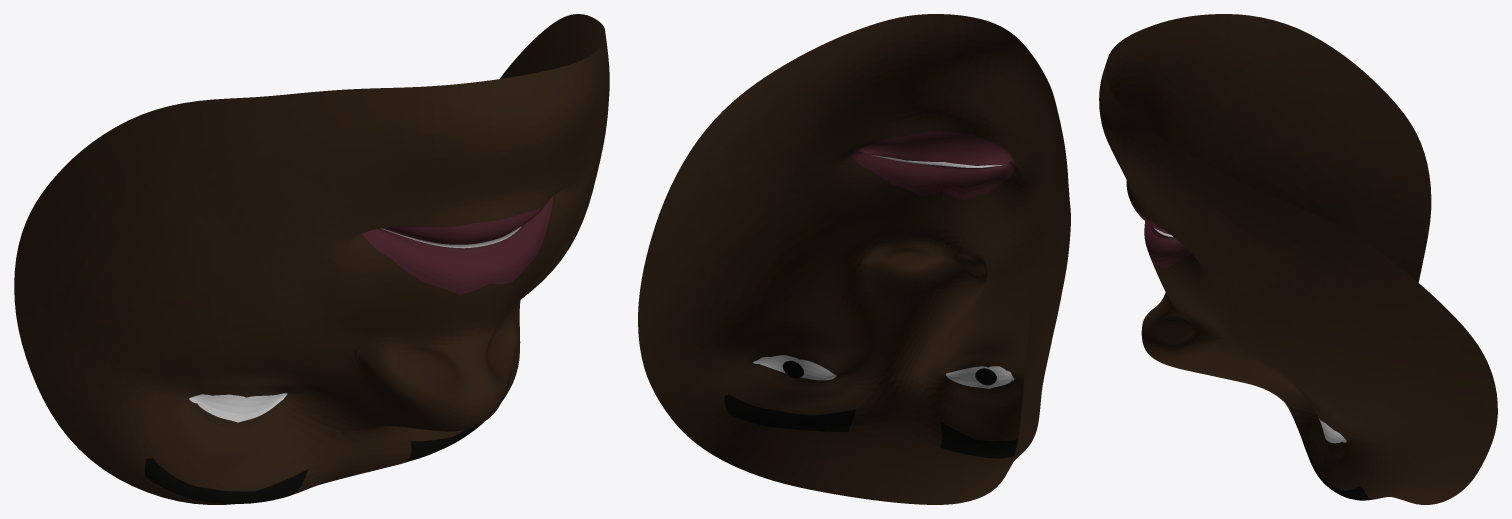
Rendered from VID-20250515-WA0008_f_01443.obj.
3 views of the same model, side by side, from view 1: azimuth 30°, elevation 25°; view 2: azimuth 150°, elevation 25°; view 3: azimuth 270°, elevation 25° (orthographic). The views are drawn at different scales.
Visible parts, largest first — view 1: face_mesh_subdivided; view 2: face_mesh_subdivided; view 3: face_mesh_subdivided.
Boxes of the visible parts, x1,y1,x2,y2 form: face_mesh_subdivided: [14, 14, 609, 504]; face_mesh_subdivided: [638, 14, 1070, 504]; face_mesh_subdivided: [1099, 14, 1497, 504].
Size of the model in its own units: 0.4359 by 0.4385 by 0.3773.
